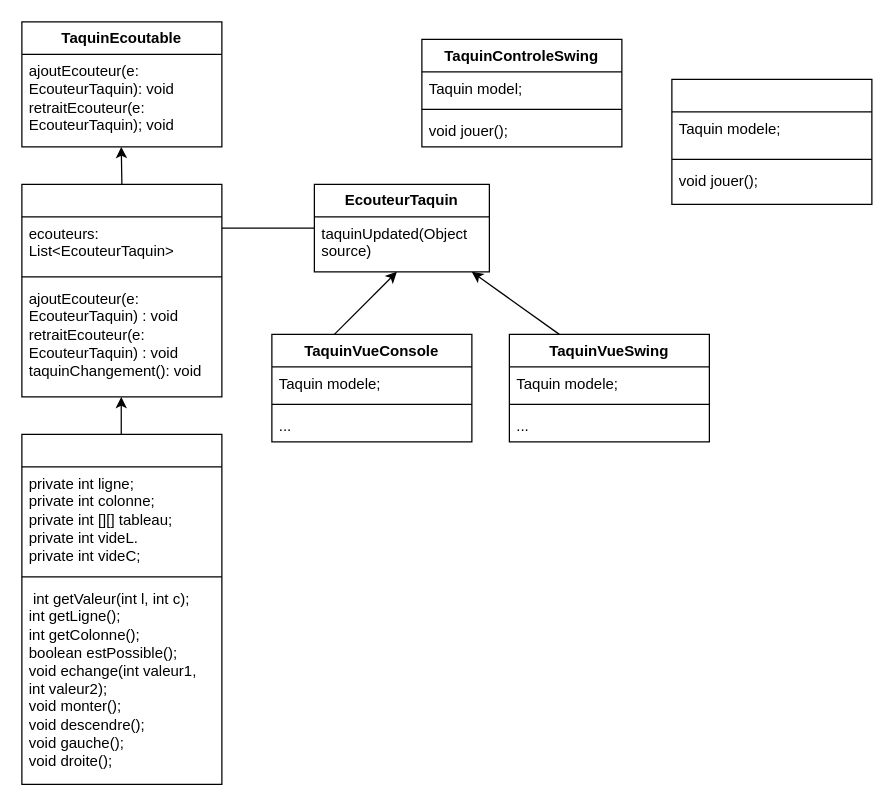
Some shapes in this 894 by 810 pixel diagram are drawn without their labels. The box of each missing label's shape, as (x1, y1, x2, y2) in pixels:
AbstractTaquinEcoutable: (21, 183, 222, 397)
Taquin: (21, 433, 222, 784)
TaquinControleConsole: (671, 78, 872, 204)
